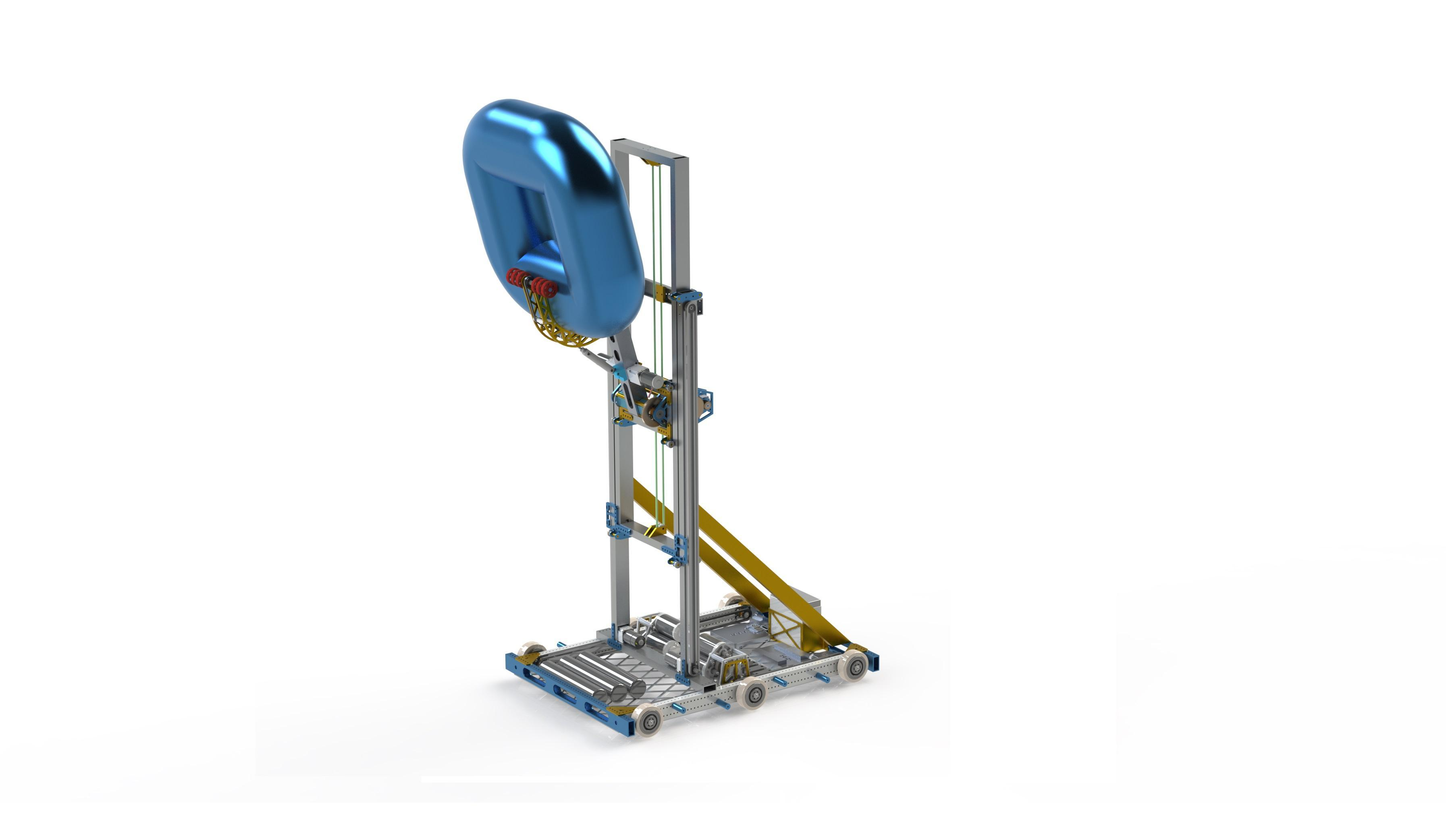robot: (502, 122, 888, 749)
